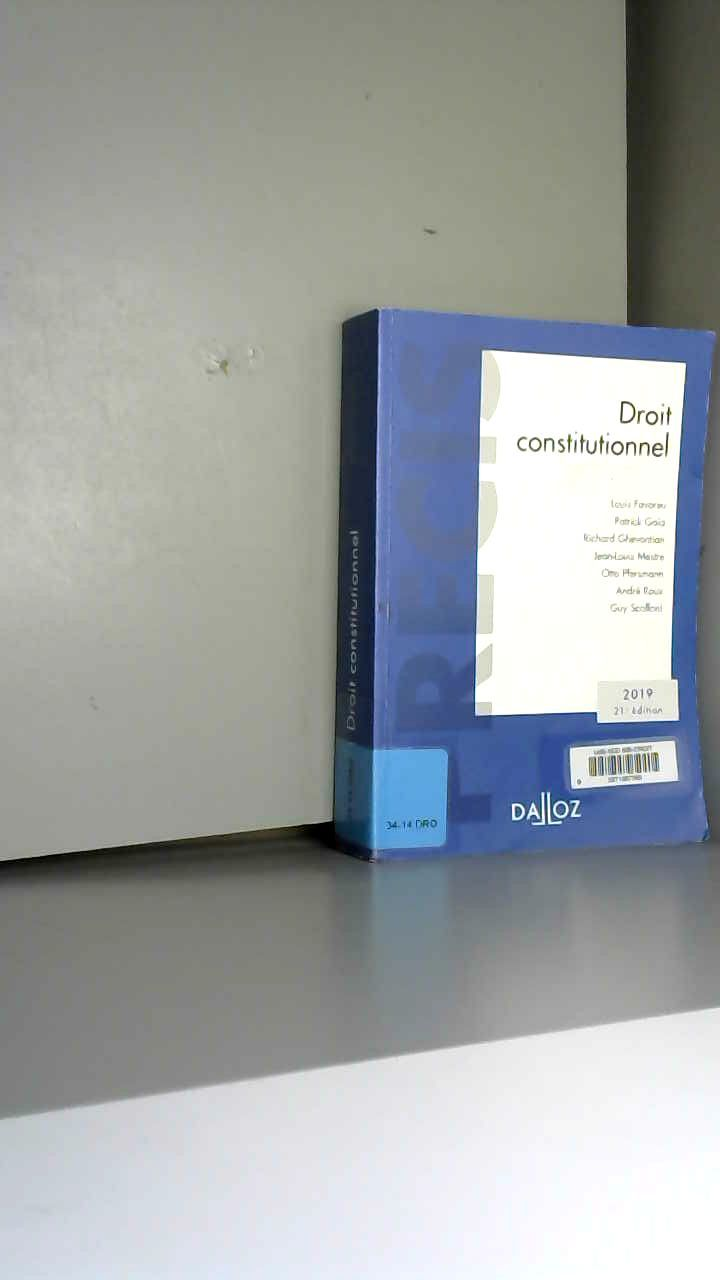book: (310, 280, 720, 879)
